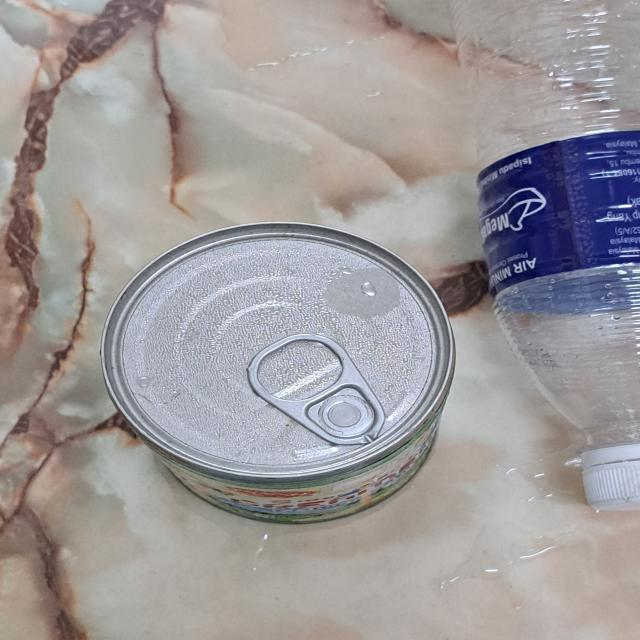can: (98, 220, 454, 524)
plastic bottle: (458, 0, 640, 452)
plastic bottle cap: (583, 449, 640, 512)
pop tab: (248, 334, 383, 444)
